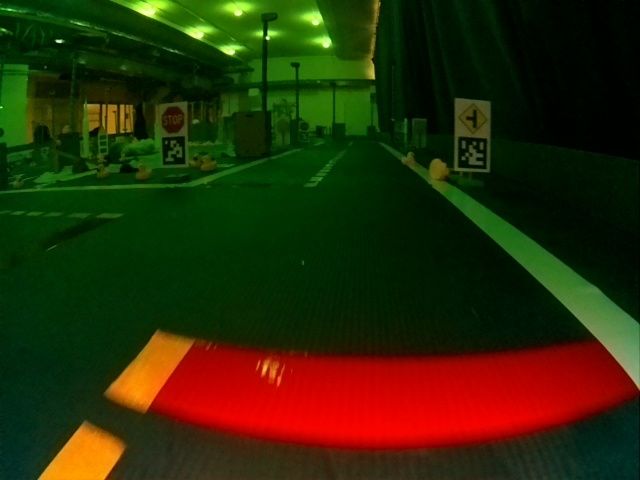Duckie: (429, 158, 450, 180), (136, 164, 150, 180), (201, 156, 213, 171), (96, 166, 108, 174), (402, 152, 410, 162), (192, 155, 199, 165)
Intersection sign: (457, 101, 490, 131)
QR code: (453, 143, 491, 172), (160, 136, 187, 166)
Stop sign: (160, 105, 185, 132)
